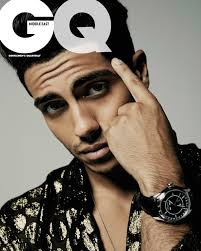middle_eastern_male: (19, 39, 150, 166)
